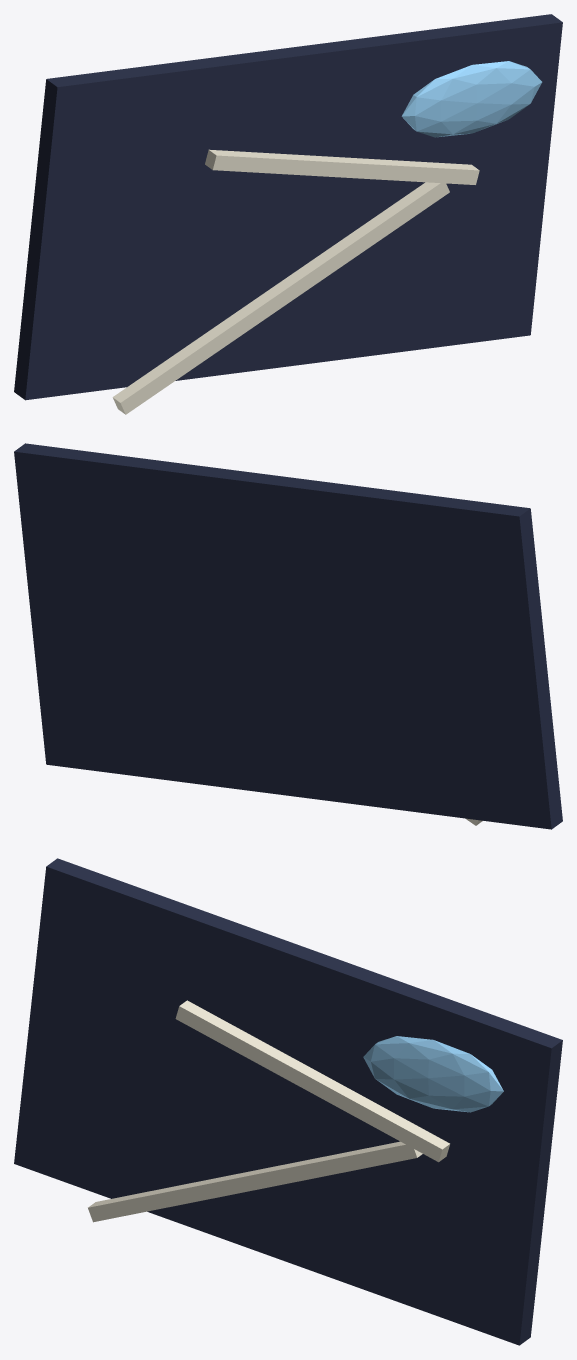
File: 03_weathering_wear_overlay_3.glb
3 views of the same model, one above another, from view 1: azimuth 30°, elevation 25°; view 2: azimuth 150°, elevation 25°; view 3: azimuth 330°, elevation 25° (orthographic).
Parts seen in each view (by area): view 1: wear_plate, scratch_a, rust_or_moss_spot, scratch_b; view 2: wear_plate; view 3: wear_plate, rust_or_moss_spot, scratch_b, scratch_a.
Part boxes in pixels (left/top/right/bottom): wear_plate: left=14, top=14, right=562, bottom=400; scratch_a: left=112, top=182, right=449, bottom=414; rust_or_moss_spot: left=401, top=61, right=542, bottom=137; scratch_b: left=205, top=149, right=479, bottom=184; wear_plate: left=14, top=443, right=562, bottom=829; wear_plate: left=14, top=858, right=562, bottom=1345; rust_or_moss_spot: left=363, top=1036, right=503, bottom=1112; scratch_b: left=175, top=1000, right=449, bottom=1162; scratch_a: left=88, top=1141, right=422, bottom=1222.
Bounding box in the file's own units: 1.37 × 0.8882 × 0.134.
